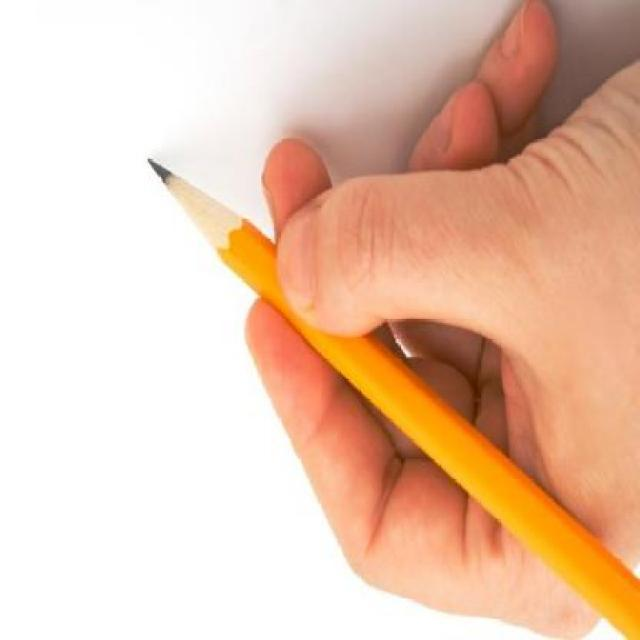pencil: (146, 154, 264, 292)
